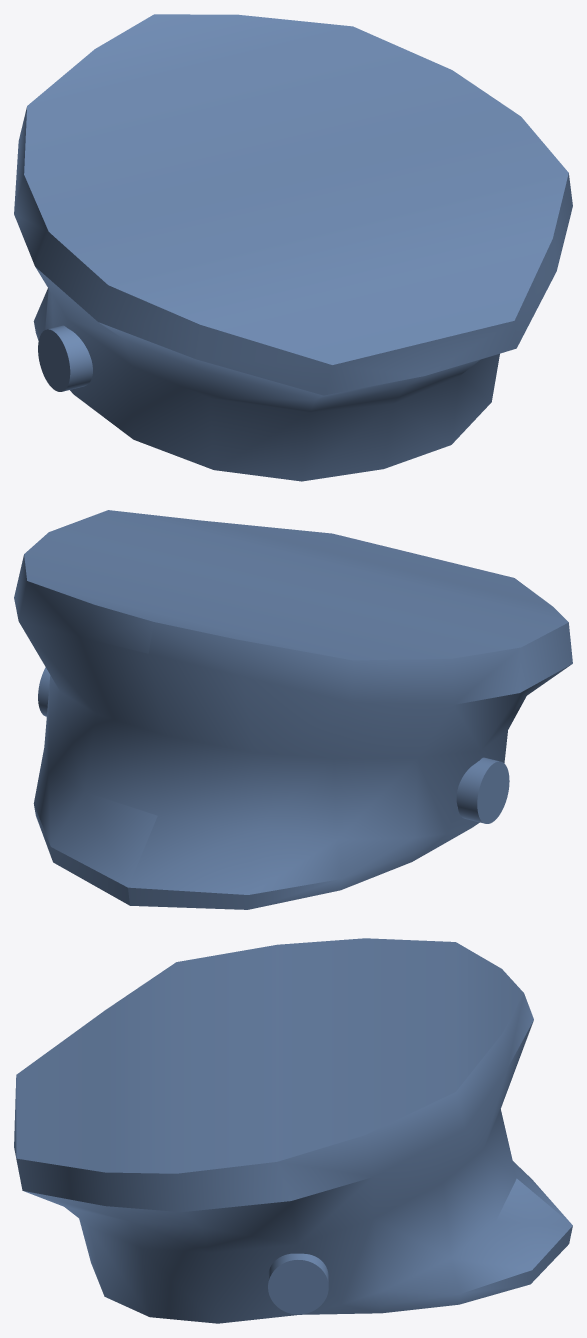
File: Policeman-cap.fbx
3 views of the same model, one above another, from view 1: azimuth 30°, elevation 25°; view 2: azimuth 150°, elevation 25°; view 3: azimuth 270°, elevation 25° (orthographic). The views are drawn at different scales.
Parts seen in each view (by area): view 1: Inner-Node-Policeman-cap_dot_io-0.001; view 2: Inner-Node-Policeman-cap_dot_io-0.001; view 3: Inner-Node-Policeman-cap_dot_io-0.001.
Boxes of the visible parts, x1,y1,x2,y2 form: Inner-Node-Policeman-cap_dot_io-0.001: [14, 14, 572, 481]; Inner-Node-Policeman-cap_dot_io-0.001: [14, 510, 572, 909]; Inner-Node-Policeman-cap_dot_io-0.001: [14, 938, 572, 1323].
Size of the model in its own units: 152 by 85.65 by 161.
